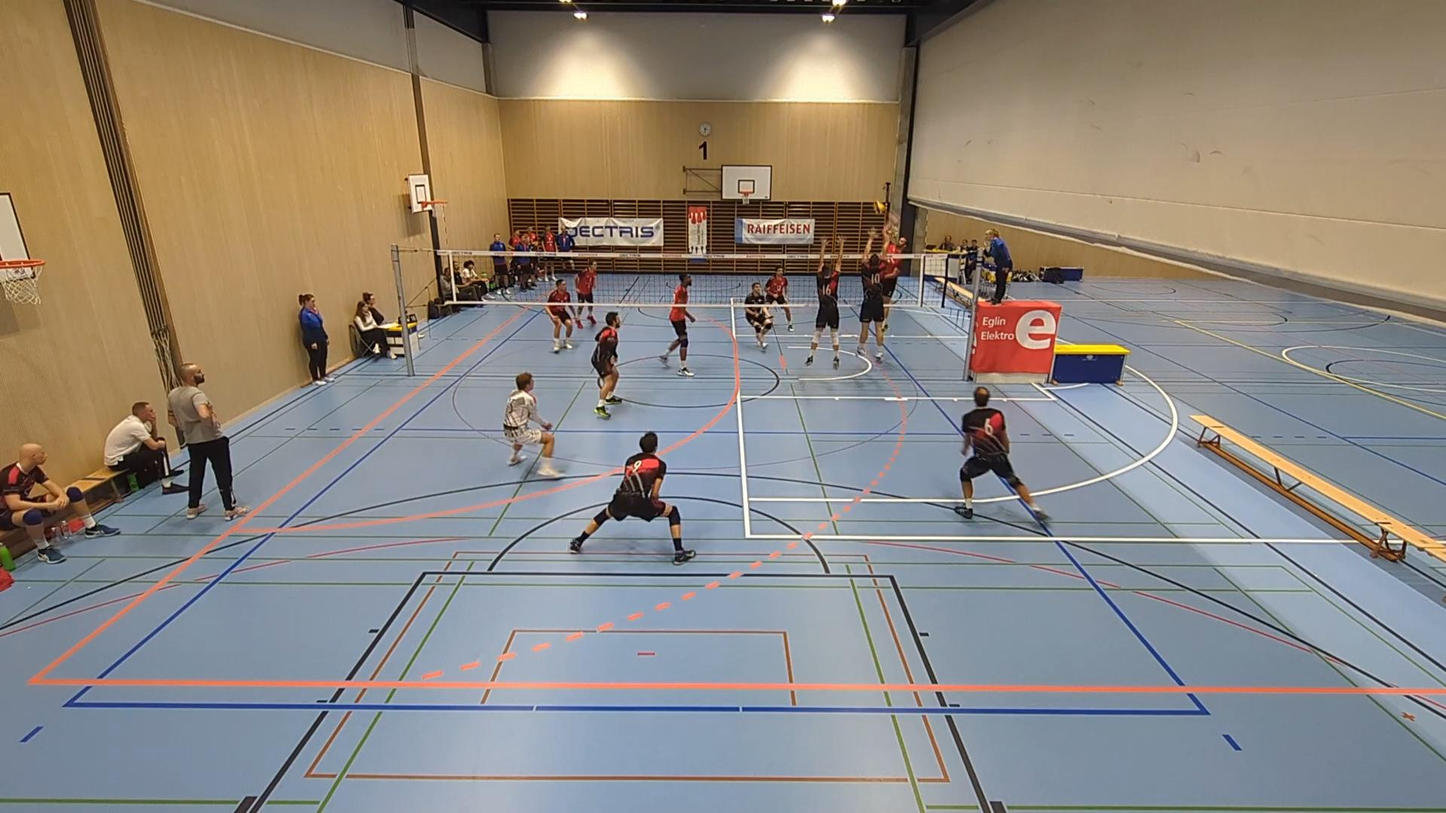attacco: (866, 212, 908, 343)
muro: (858, 235, 903, 362), (806, 234, 847, 366)
